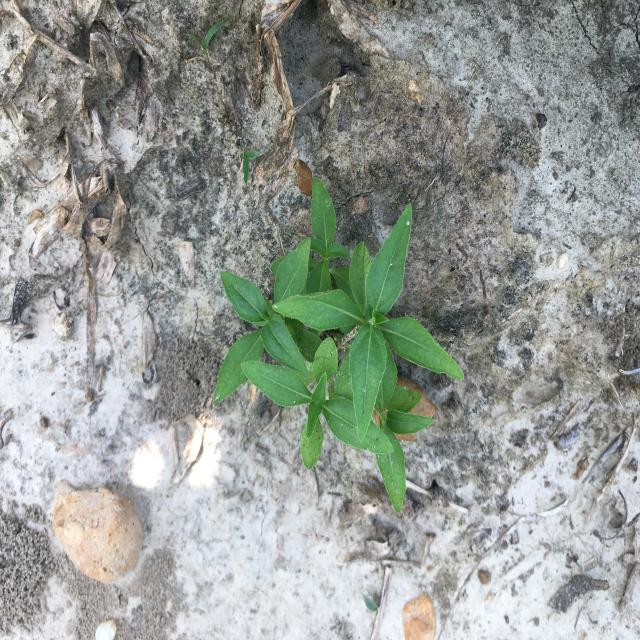Eclipta: (213, 177, 464, 512)
